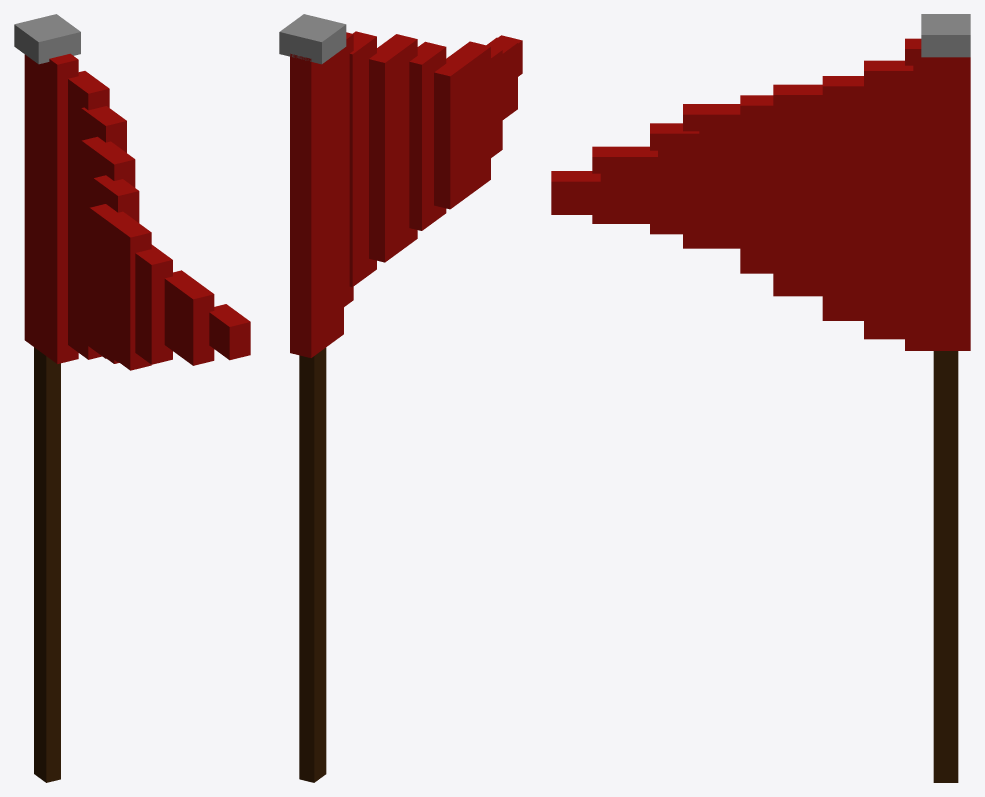
File: flaggggggg.fbx
3 views of the same model, side by side, from view 1: azimuth 30°, elevation 25°; view 2: azimuth 150°, elevation 25°; view 3: azimuth 270°, elevation 25° (orthographic).
Parts seen in each view (by area): view 1: Cube.005, Cube, Cube.013, Cube.011, Cube.015, Cube.012, Cube.014, Cube.001, Cube.004, Cube.006, Cube.010; view 2: Cube.005, Cube, Cube.012, Cube.013, Cube.006, Cube.010, Cube.001, Cube.011, Cube.015, Cube.014; view 3: Cube.005, Cube.011, Cube, Cube.012, Cube.006, Cube.013, Cube.010, Cube.014, Cube.015, Cube.001, Cube.004.
Boxes of the visible parts, box(x1,y1,x2,y2) form: Cube.005: box(24, 53, 78, 363); Cube: box(34, 347, 60, 782); Cube.013: box(89, 204, 151, 370); Cube.011: box(68, 71, 109, 359); Cube.015: box(164, 270, 214, 365); Cube.012: box(81, 136, 135, 363); Cube.014: box(135, 244, 172, 364); Cube.001: box(14, 14, 80, 64); Cube.004: box(209, 304, 250, 360); Cube.006: box(81, 106, 126, 358); Cube.010: box(93, 175, 139, 362); Cube.005: box(290, 48, 343, 357); Cube: box(299, 347, 326, 782); Cube.012: box(369, 34, 417, 262); Cube.013: box(434, 41, 490, 209); Cube.006: box(349, 31, 376, 287); Cube.010: box(409, 41, 446, 230); Cube.001: box(279, 14, 346, 64); Cube.011: box(344, 32, 353, 306); Cube.015: box(486, 37, 517, 119); Cube.014: box(491, 47, 502, 157); Cube.005: box(905, 38, 970, 350); Cube.011: box(864, 60, 913, 339); Cube: box(933, 351, 958, 782); Cube.012: box(773, 84, 822, 296); Cube.006: box(822, 76, 863, 320); Cube.013: box(683, 104, 740, 248); Cube.010: box(740, 95, 773, 273); Cube.014: box(650, 123, 699, 234); Cube.015: box(592, 146, 657, 223); Cube.001: box(921, 14, 970, 57); Cube.004: box(551, 171, 600, 214).
Bounding box in the file's own units: 650 × 6750 × 3400.
